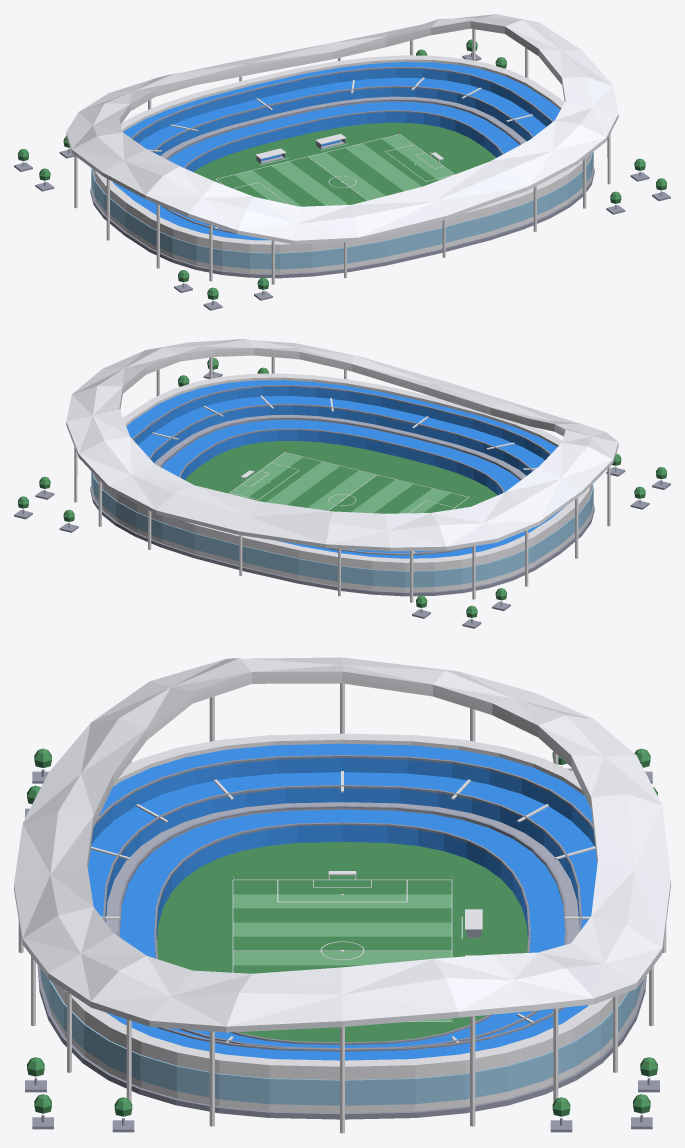
File: football-stadium-12x9-tone-a.glb
3 renders of one model, top to bottom at view 1: azimuth 30°, elevation 25°; view 2: azimuth 150°, elevation 25°; view 3: azimuth 270°, elevation 25°, orthographic. The views are drawn at different scales.
Parts seen in each view (by area): view 1: football-stadium-12x9-tone-a; view 2: football-stadium-12x9-tone-a; view 3: football-stadium-12x9-tone-a.
Part boxes in pixels (x1,y1,x2,y2): football-stadium-12x9-tone-a: (14,14,670,310); football-stadium-12x9-tone-a: (14,339,670,628); football-stadium-12x9-tone-a: (14,657,670,1133).
Size of the model in its own units: 12 by 2.12 by 9.
1 material, 1 textured.
